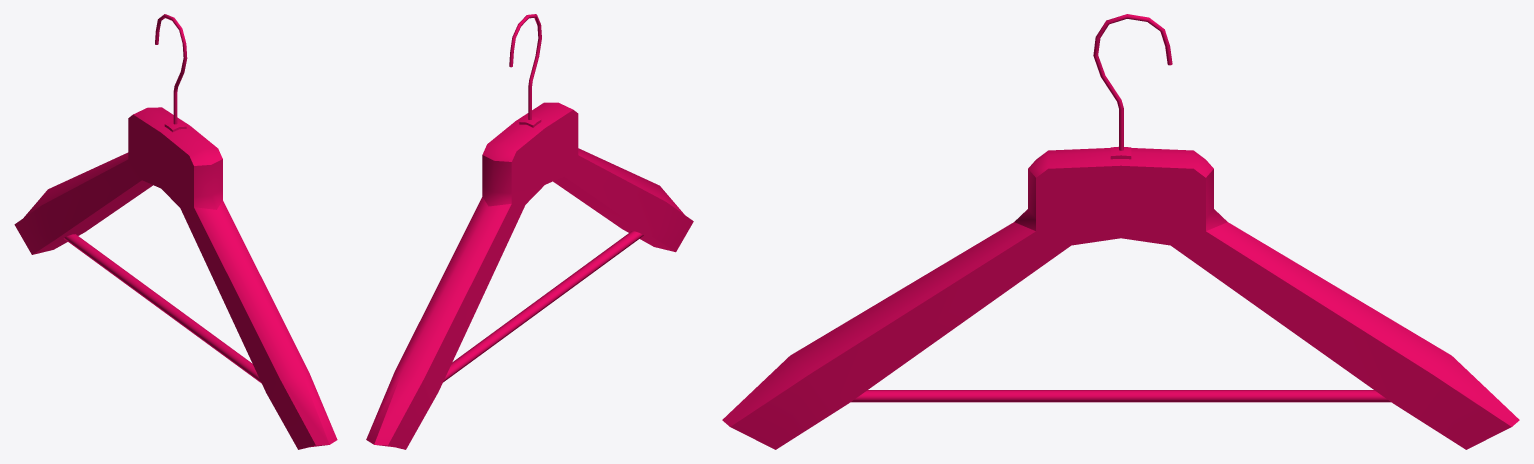
Rendered from Wooden_Hanger_Lod0.fbx.
The picture shows the model from 3 angles, left to right: view 1: azimuth 30°, elevation 25°; view 2: azimuth 150°, elevation 25°; view 3: azimuth 270°, elevation 25°; orthographic projection. The views are drawn at different scales.
Visible parts, largest first — view 1: Wooden_Hanger_Lod0; view 2: Wooden_Hanger_Lod0; view 3: Wooden_Hanger_Lod0.
Part boxes in pixels (x1,y1,x2,y2): Wooden_Hanger_Lod0: (14, 14, 337, 449); Wooden_Hanger_Lod0: (366, 14, 693, 449); Wooden_Hanger_Lod0: (722, 14, 1519, 449).
Size of the model in its own units: 3.09 by 33.77 by 56.93.
